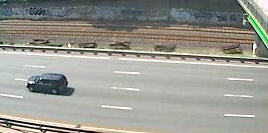car: (24, 72, 71, 97)
